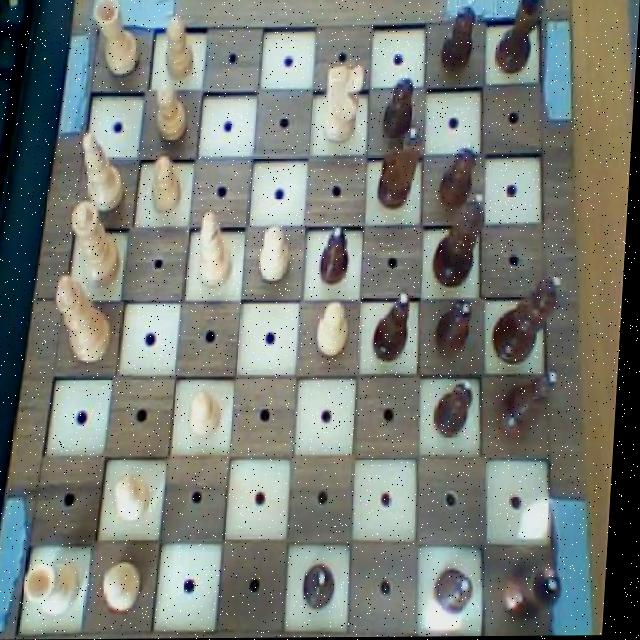bishop: (499, 369, 567, 445), (372, 288, 420, 364)
black-bishop: (495, 270, 570, 366)
black-king: (372, 121, 431, 216)
black-knight: (434, 0, 483, 78), (379, 64, 426, 145), (435, 375, 484, 444), (438, 137, 483, 210), (434, 293, 480, 360), (319, 222, 360, 290), (439, 563, 486, 620), (306, 558, 349, 613)
black-pawn: (431, 193, 489, 294)
black-queen: (491, 0, 549, 78), (505, 558, 572, 624)
black-rook: (76, 128, 131, 212), (194, 203, 241, 290)
white-bishop: (52, 271, 123, 373)
white-king: (317, 61, 372, 149)
white-knight: (103, 554, 154, 618), (150, 80, 196, 148), (161, 8, 202, 83), (317, 296, 358, 362), (257, 224, 296, 290), (116, 465, 158, 525), (189, 387, 230, 446), (151, 152, 185, 214)
white-pawn: (66, 194, 129, 289)
white-queen: (24, 551, 93, 623), (88, 0, 146, 80)
